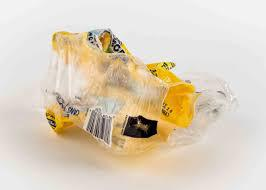Plastic: (36, 28, 244, 156)
